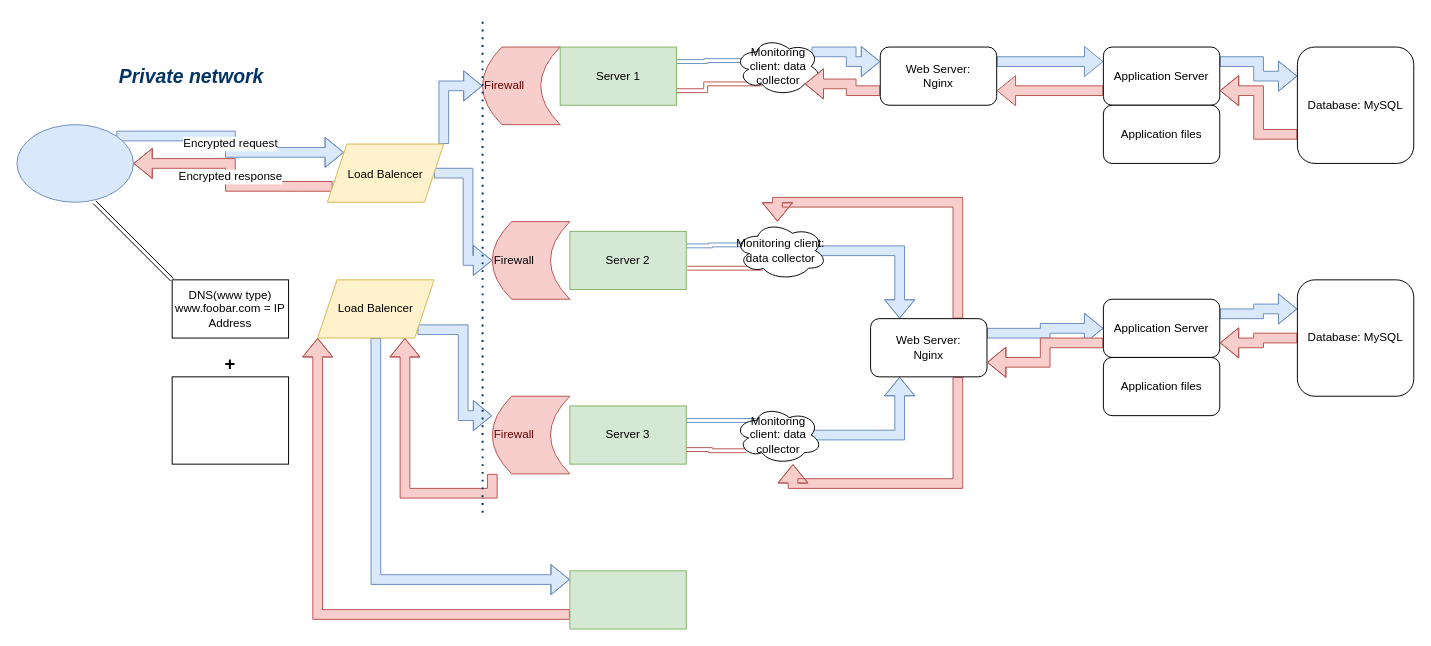
Some shapes in this 1431 by 646 pixel diagram are drawn without their labels. Each missing label, with the centre of its shape:
"Client" belongs at point 74,163.
"Server 4" belongs at point 627,599.
"SSL Certificate: will serve foobar.com over HTTPS" belongs at point 230,420.
